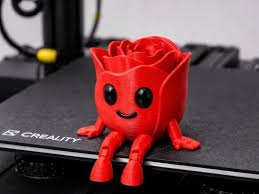3d print: (77, 36, 199, 185)
